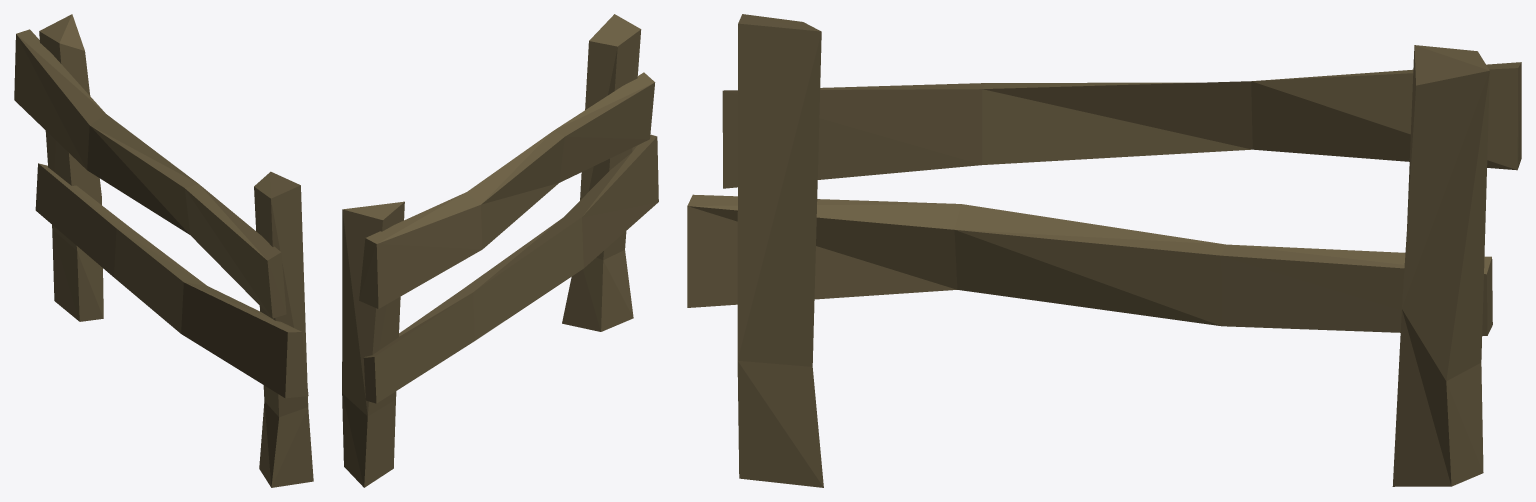
Rendered from cit2.fbx.
3 views of the same model, side by side, from view 1: azimuth 30°, elevation 25°; view 2: azimuth 150°, elevation 25°; view 3: azimuth 270°, elevation 25° (orthographic). The views are drawn at different scales.
Visible parts, largest first — view 1: LowPolyFence_02; view 2: LowPolyFence_02; view 3: LowPolyFence_02.
Part boxes in pixels (box(x1,y1,x2,y2)): LowPolyFence_02: box(14, 14, 313, 487); LowPolyFence_02: box(342, 14, 658, 487); LowPolyFence_02: box(687, 14, 1521, 487).
Bounding box in the file's own units: 44.73 × 154 × 260.
